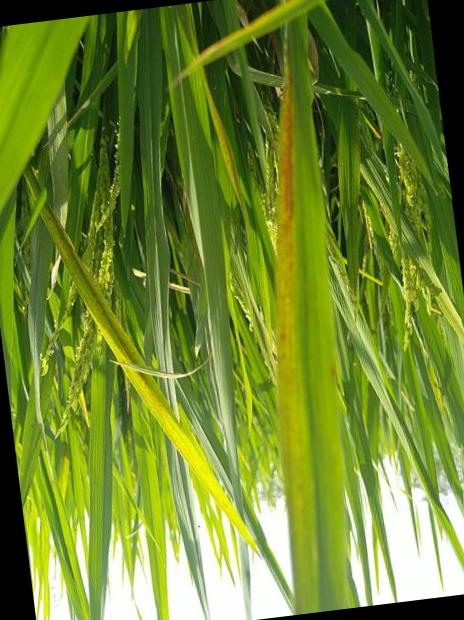Leaf Streak: (42, 200, 250, 539), (278, 52, 315, 614)
